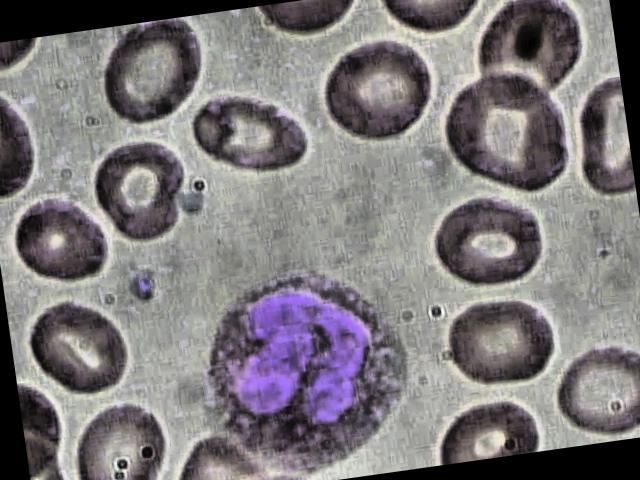Platelets: (118, 268, 161, 307)
RBC: (434, 66, 578, 206), (433, 282, 568, 400), (180, 71, 314, 188), (72, 130, 206, 247), (314, 32, 448, 149), (422, 183, 556, 300), (80, 16, 214, 132), (24, 289, 138, 404), (6, 183, 110, 294), (547, 335, 640, 448), (61, 393, 172, 480)
WBC: (184, 243, 431, 480)
